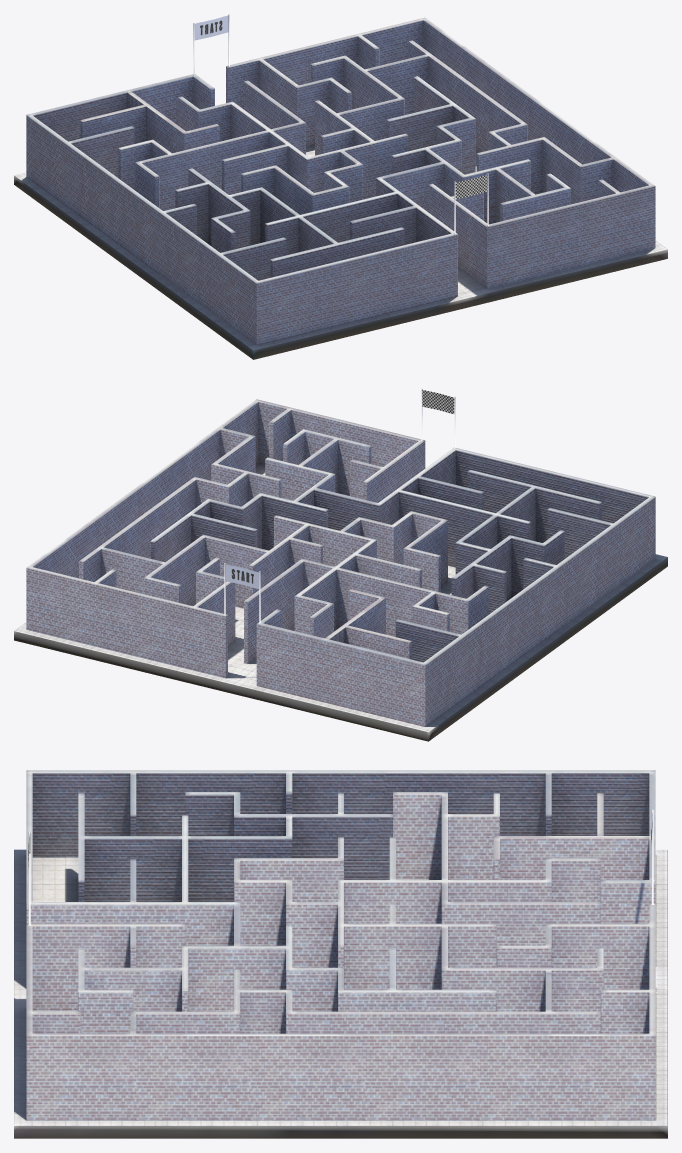
Rendered from labyrinth.glb.
3 renders of one model, top to bottom at view 1: azimuth 30°, elevation 25°; view 2: azimuth 150°, elevation 25°; view 3: azimuth 270°, elevation 25°, orthographic. The views are drawn at different scales.
Parts seen in each view (by area): view 1: Object_4, Object_2, Object_3; view 2: Object_4, Object_2, Object_3; view 3: Object_4, Object_2, Object_3.
Part boxes in pixels (x1,y1,x2,y2): Object_4: [26, 17, 655, 345]; Object_2: [14, 145, 667, 359]; Object_3: [192, 14, 489, 234]; Object_4: [26, 399, 655, 726]; Object_2: [14, 464, 667, 741]; Object_3: [223, 388, 455, 624]; Object_4: [26, 770, 655, 1120]; Object_2: [14, 849, 667, 1138]; Object_3: [28, 809, 654, 925].
Size of the model in its own units: 21 by 5.97 by 21.
3 materials, 3 textured.
